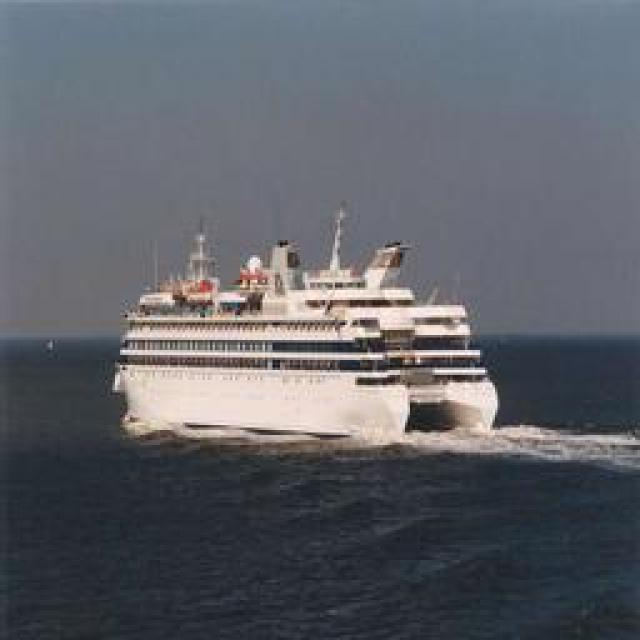Ship: (109, 202, 499, 445)
